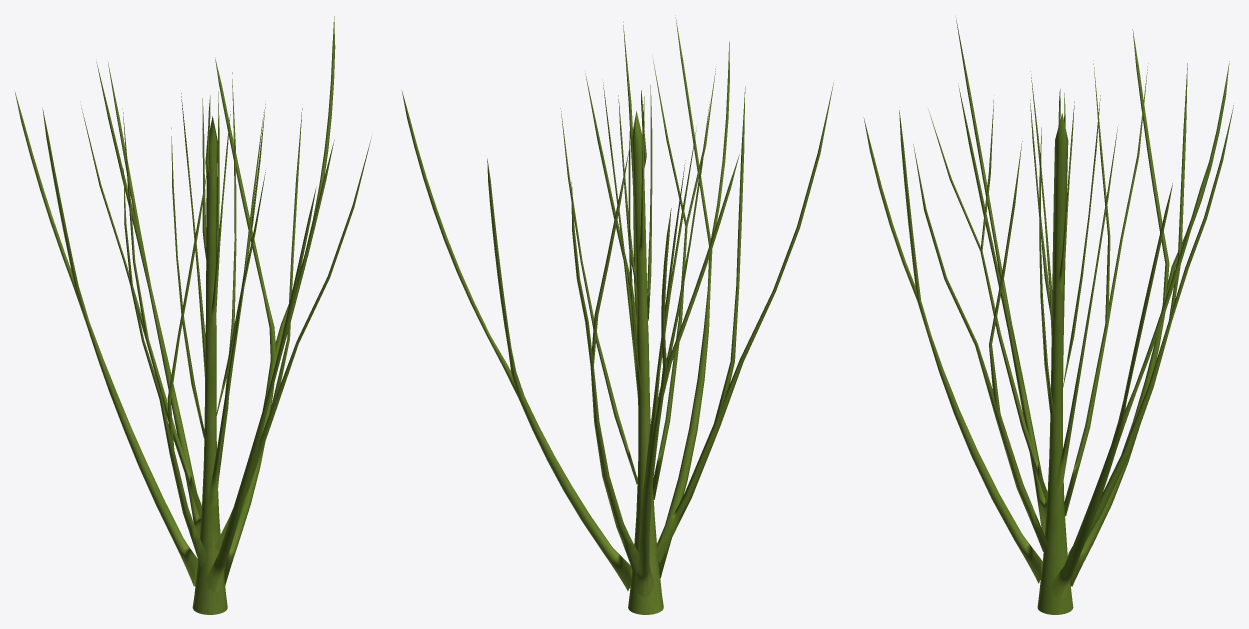
The model's file is heather stem.fbx.
3 renders of one model, left to right at view 1: azimuth 30°, elevation 25°; view 2: azimuth 150°, elevation 25°; view 3: azimuth 270°, elevation 25°, orthographic. The views are drawn at different scales.
Visible parts, largest first — view 1: plant01_0; view 2: plant01_0; view 3: plant01_0.
Part boxes in pixels (x1,y1,x2,y2): plant01_0: (14,16,371,614); plant01_0: (401,15,833,614); plant01_0: (863,18,1233,614).
Bounding box in the file's own units: 61.28 × 95.06 × 60.8.
Materials: 1 (1 with a texture image).
